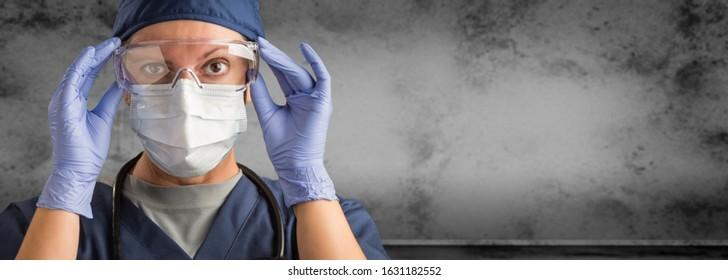gloves: (36, 38, 124, 219), (246, 36, 341, 201)
